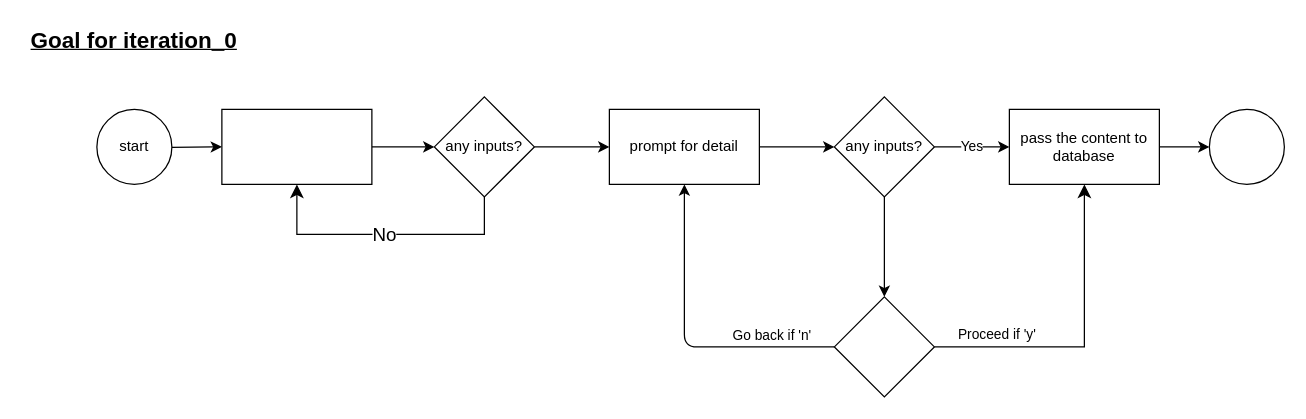
The diagram is 1306 pixels wide and 419 high, and some of its shapes have lost their labels. The shapes that lost their labels are listed below. From the top down, each one's centre as x and y in pixels, then its label:
At pixel 296 146: "prompt for task title".
At pixel 1246 146: "end".
At pixel 883 346: "confirm for input".
